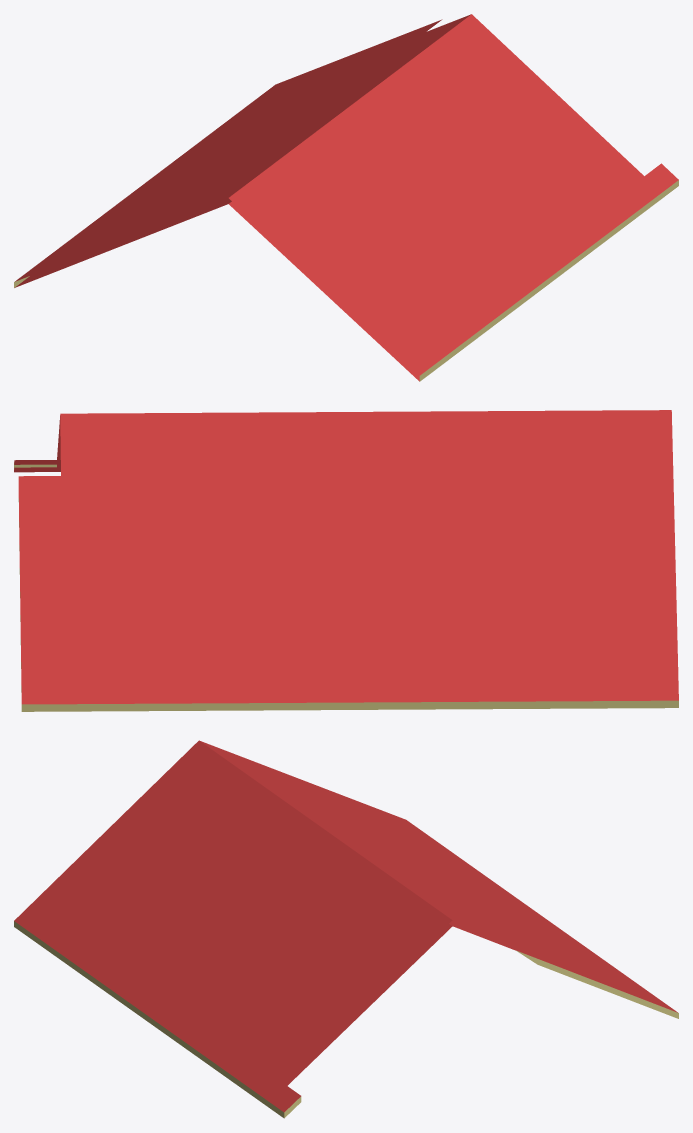
The picture shows the model from 3 angles, top to bottom: view 1: azimuth 30°, elevation 25°; view 2: azimuth 150°, elevation 25°; view 3: azimuth 270°, elevation 25°; orthographic projection. The views are drawn at different scales.
Bounding box in the file's own units: 10.45 × 10.03 × 2.31.
